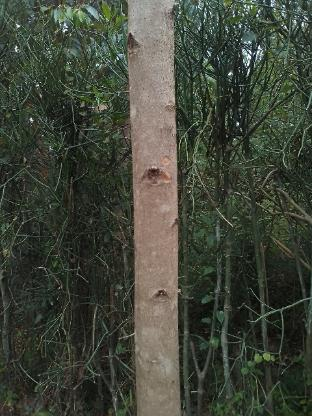tree: (119, 0, 194, 415)
